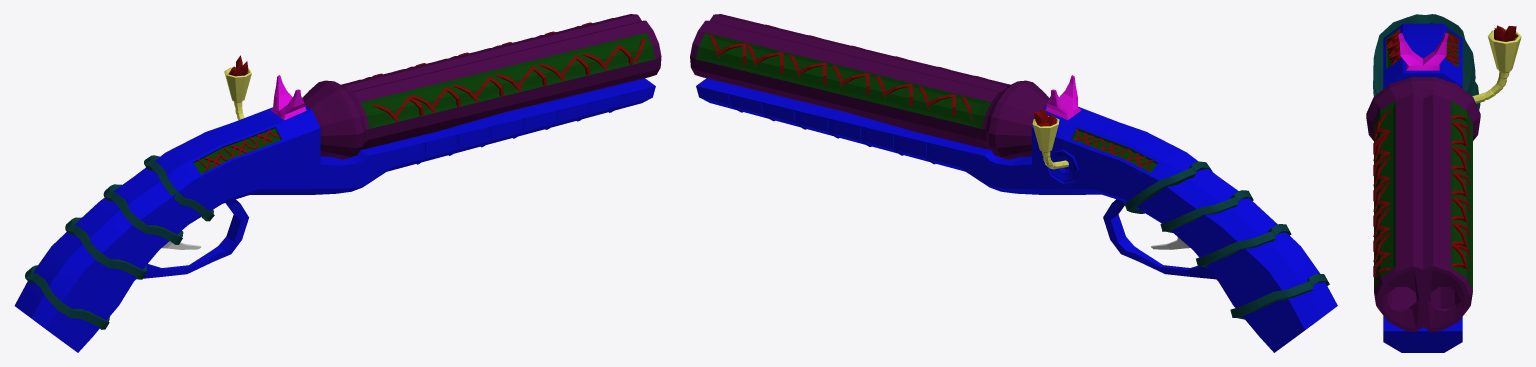
File: Sawed-off.fbx
The picture shows the model from 3 angles, left to right: view 1: azimuth 30°, elevation 25°; view 2: azimuth 150°, elevation 25°; view 3: azimuth 270°, elevation 25°; orthographic projection. The views are drawn at different scales.
Parts seen in each view (by area): view 1: Saweedoff; view 2: Saweedoff; view 3: Saweedoff.
Part boxes in pixels (x1,y1,x2,y2): Saweedoff: (14, 14, 661, 352); Saweedoff: (690, 14, 1337, 352); Saweedoff: (1366, 14, 1521, 352).
Size of the model in its own units: 14.37 by 4.7 by 2.6.
